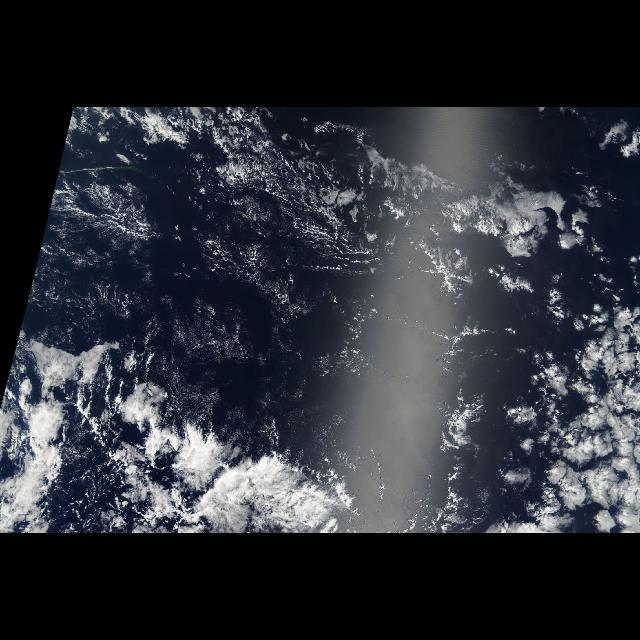Flower: (422, 294, 640, 534)
Gravel: (89, 130, 439, 282)
Sugar: (174, 275, 336, 407)
